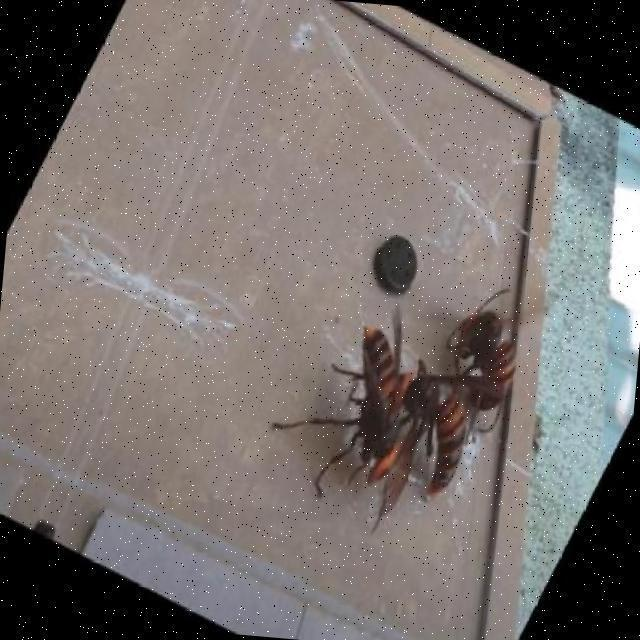Wasp: (246, 312, 411, 494), (449, 297, 516, 413)
